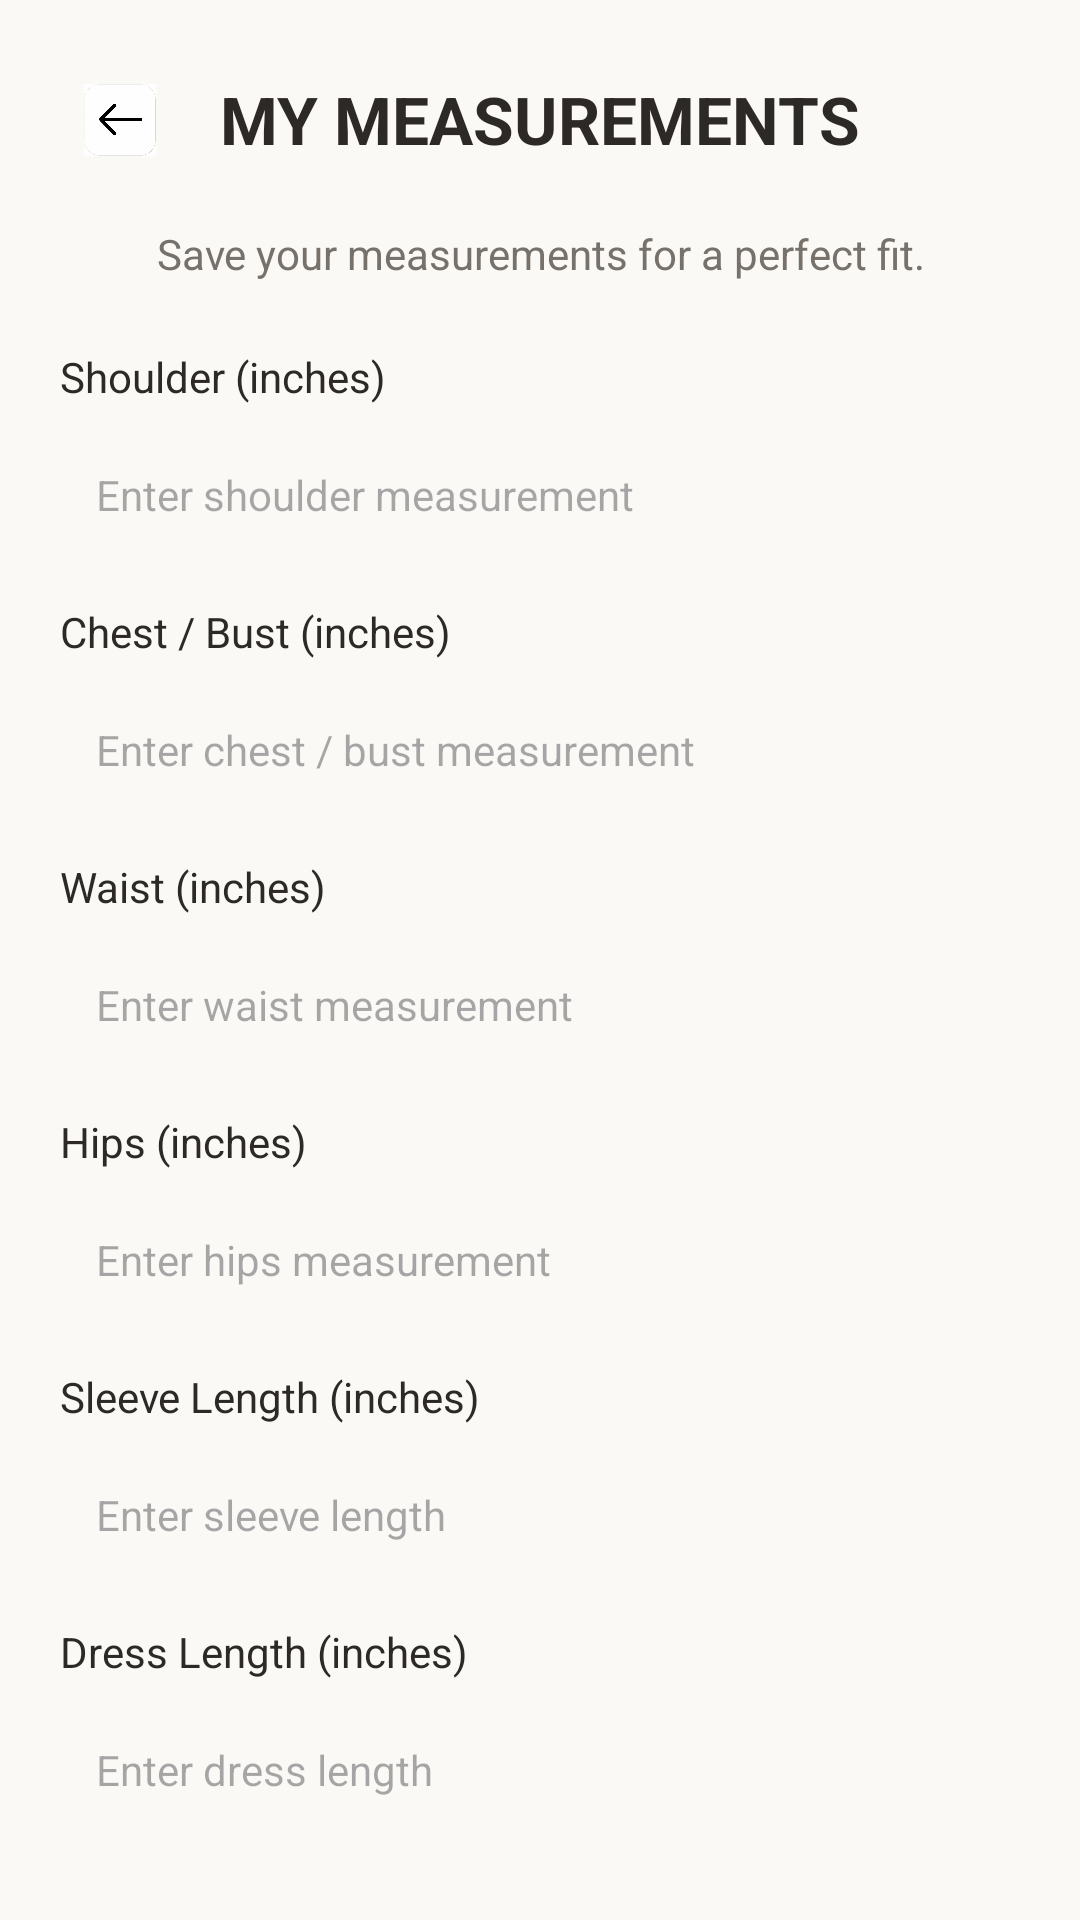

Screen size 1080×1920. Icon name, then its center in pixels as [x,y]:
Back: [122,121]
